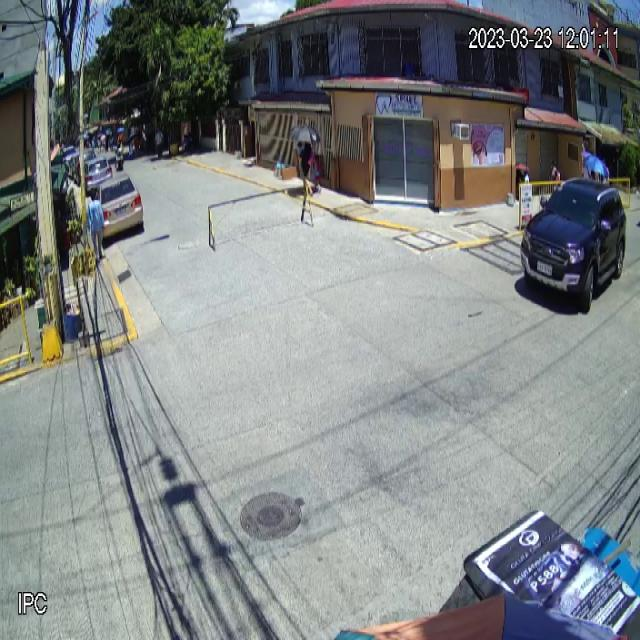Car: (520, 179, 627, 316), (96, 171, 144, 244)
